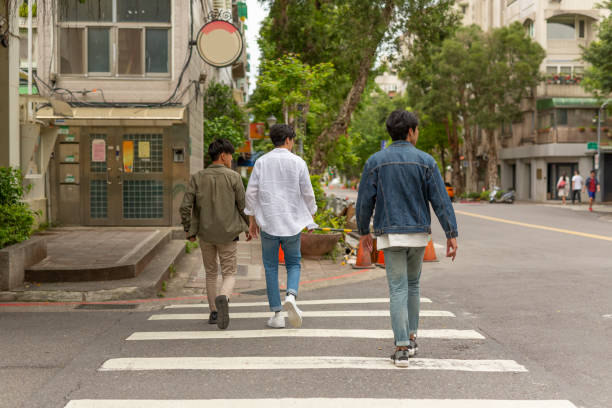yaya: (358, 98, 451, 379), (236, 123, 324, 316), (170, 142, 251, 324)
